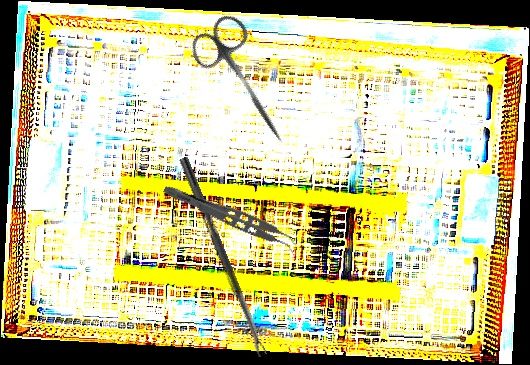Iris Scissors: (182, 9, 310, 158)
Surgical Spoon: (177, 156, 268, 358)
Tissue Forceps: (158, 182, 301, 256)
